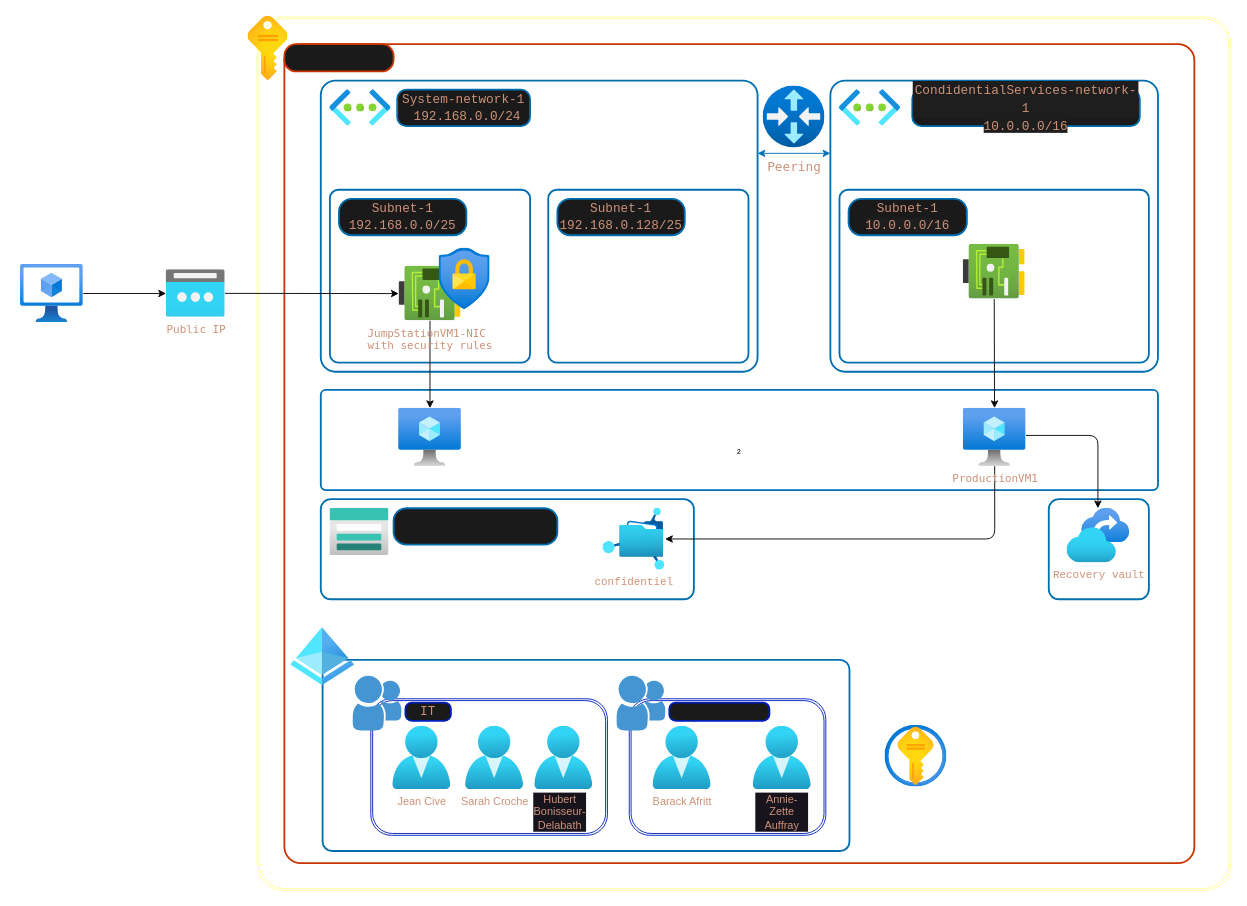
Some shapes in this 1247 by 906 pixel diagram are drawn without their labels. The shapes that lost their labels are listed below. From the top down, each one's centre as x and y in pixels, then its label:
At (x=338, y=57): "France central".
At (x=994, y=271): "ProductionVM1-NIC".
At (x=51, y=293): "Remote User".
At (x=429, y=437): "JumpStationVM1".
At (x=475, y=526): "Storage Account confidentiel00000000".
At (x=719, y=711): "Administratif".
At (x=915, y=756): "KeyVault1".
